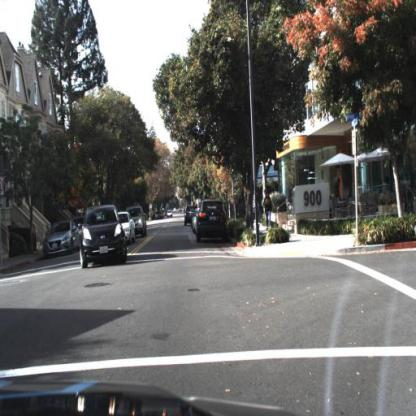car: (78, 205, 127, 267), (196, 197, 229, 246), (42, 219, 80, 254), (129, 205, 150, 239), (182, 202, 193, 230), (183, 203, 194, 227)
pedestrian: (263, 189, 274, 227)
